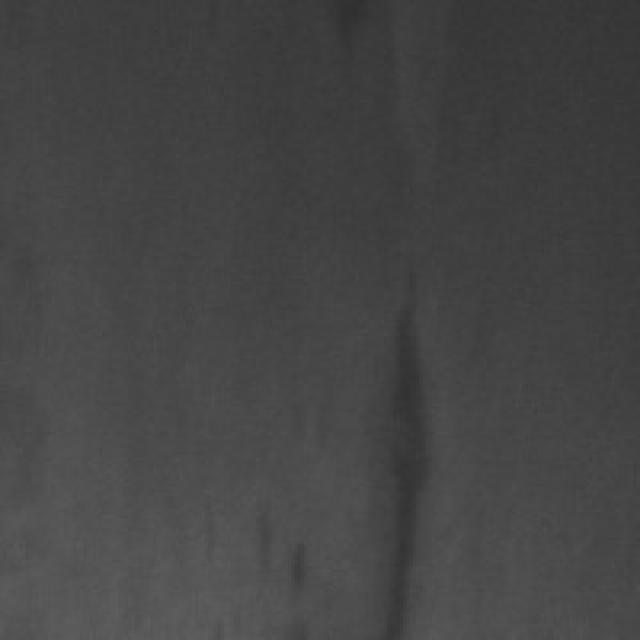inclusion: (339, 250, 432, 630), (236, 496, 314, 605), (323, 0, 387, 109)
